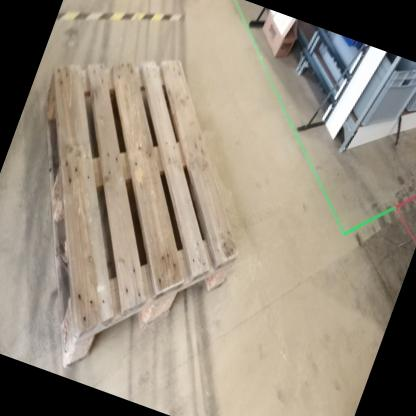BoxFace: (42, 51, 244, 374)
